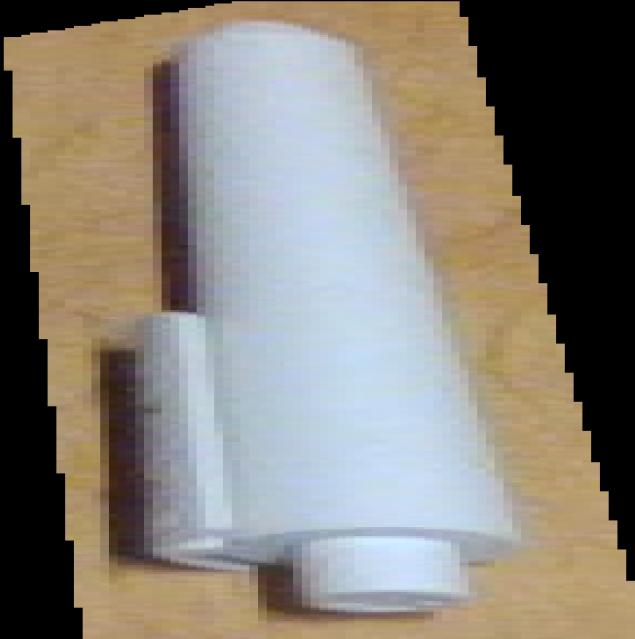white: (1, 0, 635, 639)
